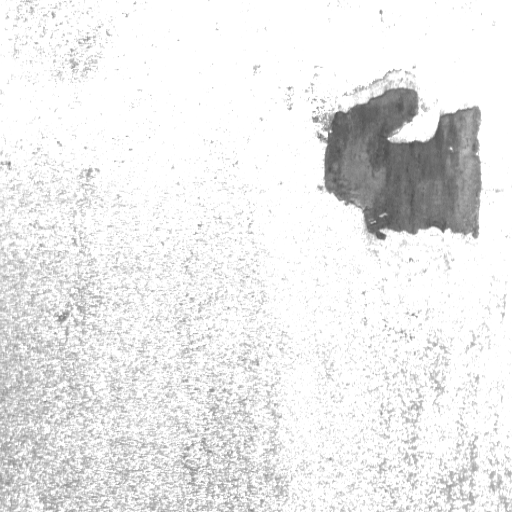qiaopi: (319, 86, 483, 246)
